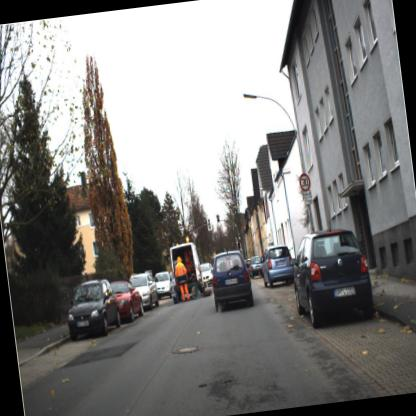prohibitory: (298, 172, 310, 192)
